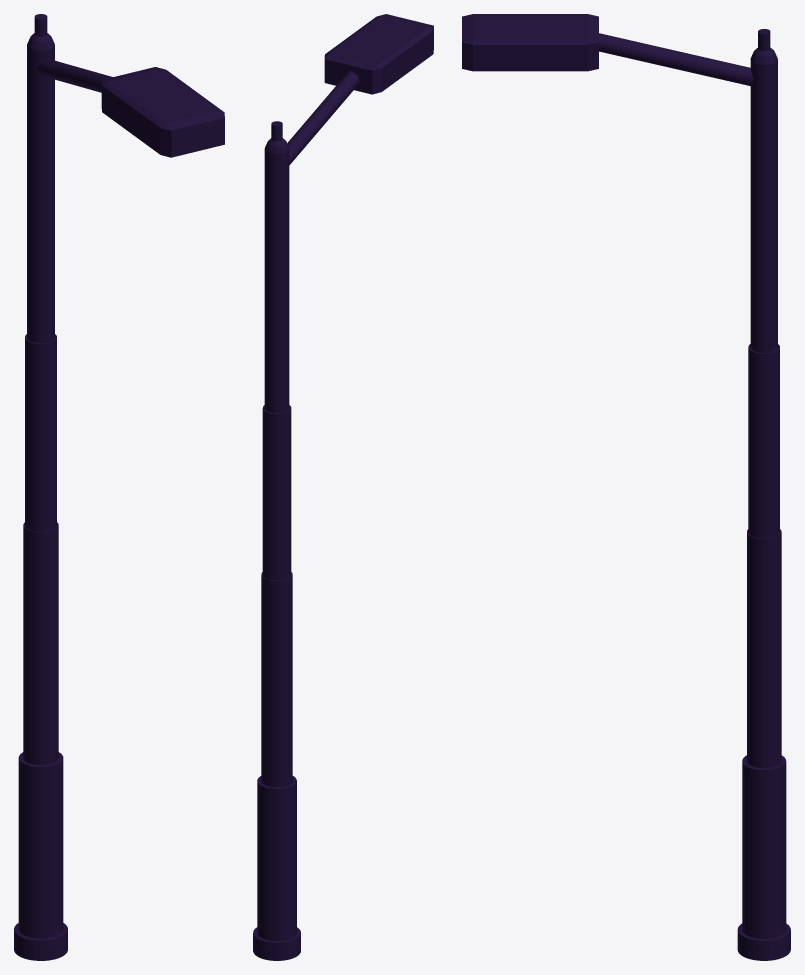
File: streetlight.fbx
The picture shows the model from 3 angles, left to right: view 1: azimuth 30°, elevation 25°; view 2: azimuth 150°, elevation 25°; view 3: azimuth 270°, elevation 25°; orthographic projection. The views are drawn at different scales.
Parts seen in each view (by area): view 1: Cylinder.004, Cube.004, Cylinder.005; view 2: Cylinder.004, Cube.004, Cylinder.005; view 3: Cylinder.004, Cube.004, Cylinder.005.
Part boxes in pixels (x1,y1,x2,y2): Cylinder.004: [14, 14, 67, 960]; Cube.004: [101, 67, 224, 157]; Cylinder.005: [38, 59, 112, 92]; Cylinder.004: [253, 121, 300, 960]; Cube.004: [324, 14, 433, 94]; Cylinder.005: [287, 71, 359, 165]; Cylinder.004: [737, 29, 790, 960]; Cube.004: [462, 14, 598, 71]; Cylinder.005: [599, 33, 753, 86].
Size of the model in its own units: 73.35 by 1026 by 331.
